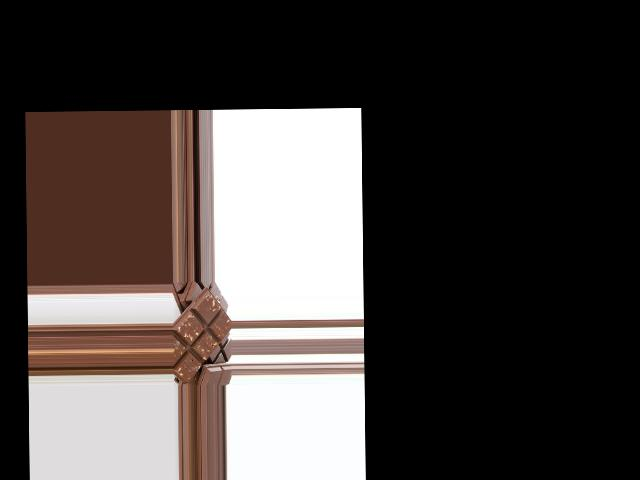chocolate: (172, 293, 231, 382)
